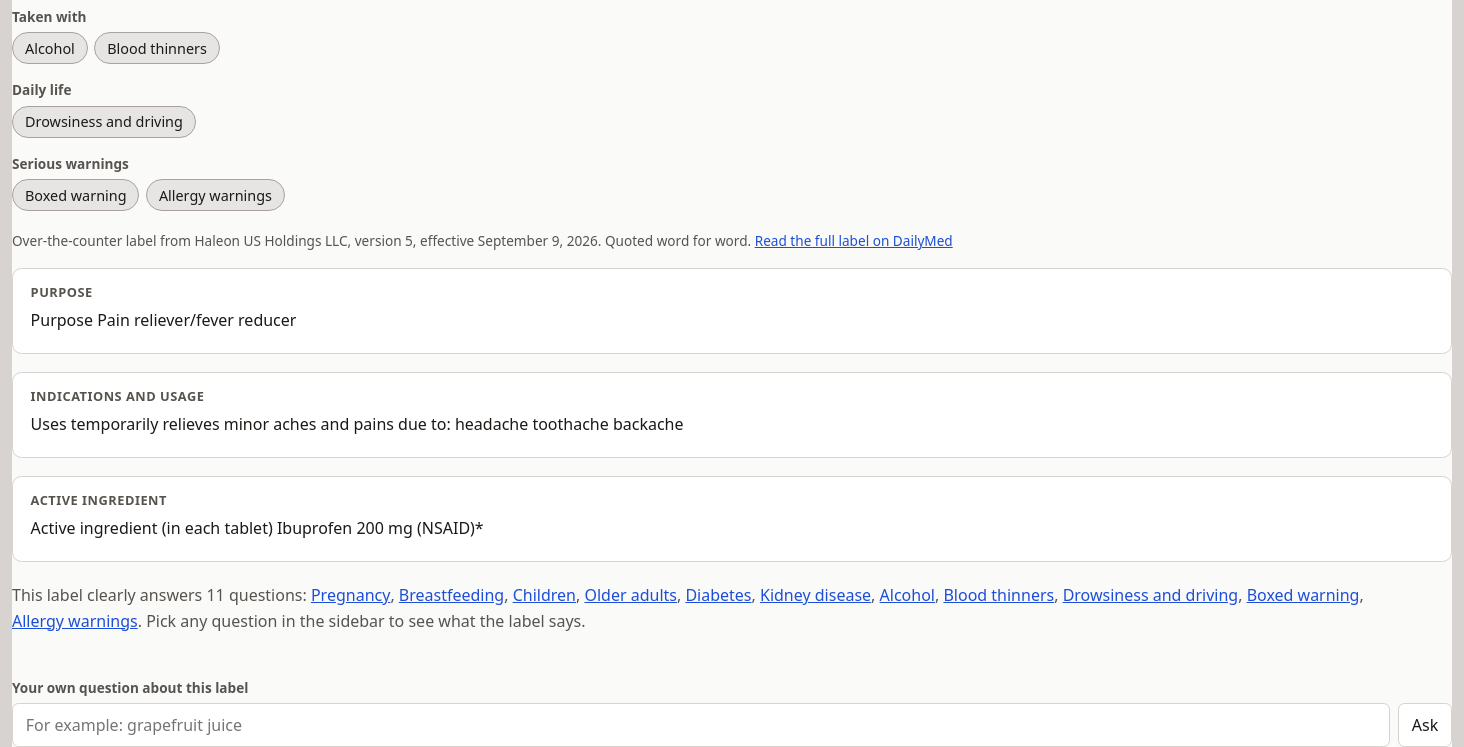
Test case: DrugAnswers › goes back to the overview from an answer
The width and height of the screenshot is (1464, 747).
(page scrolled)
Click the button "Pregnancy" at (351, 596), box [311,583,390,608]
(page scrolled)
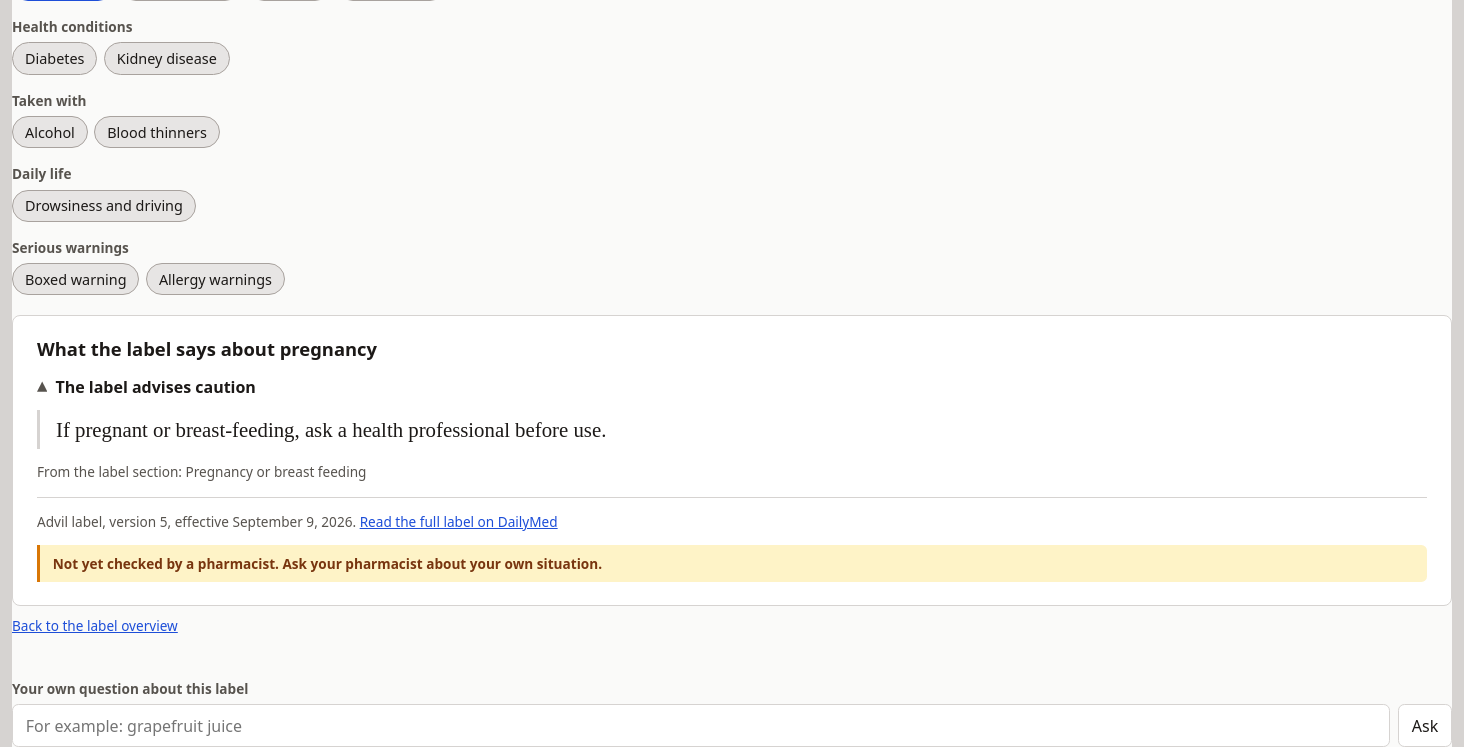
Click the button "Back to the label overview" at (95, 625), box [12,616,178,635]
(page scrolled)
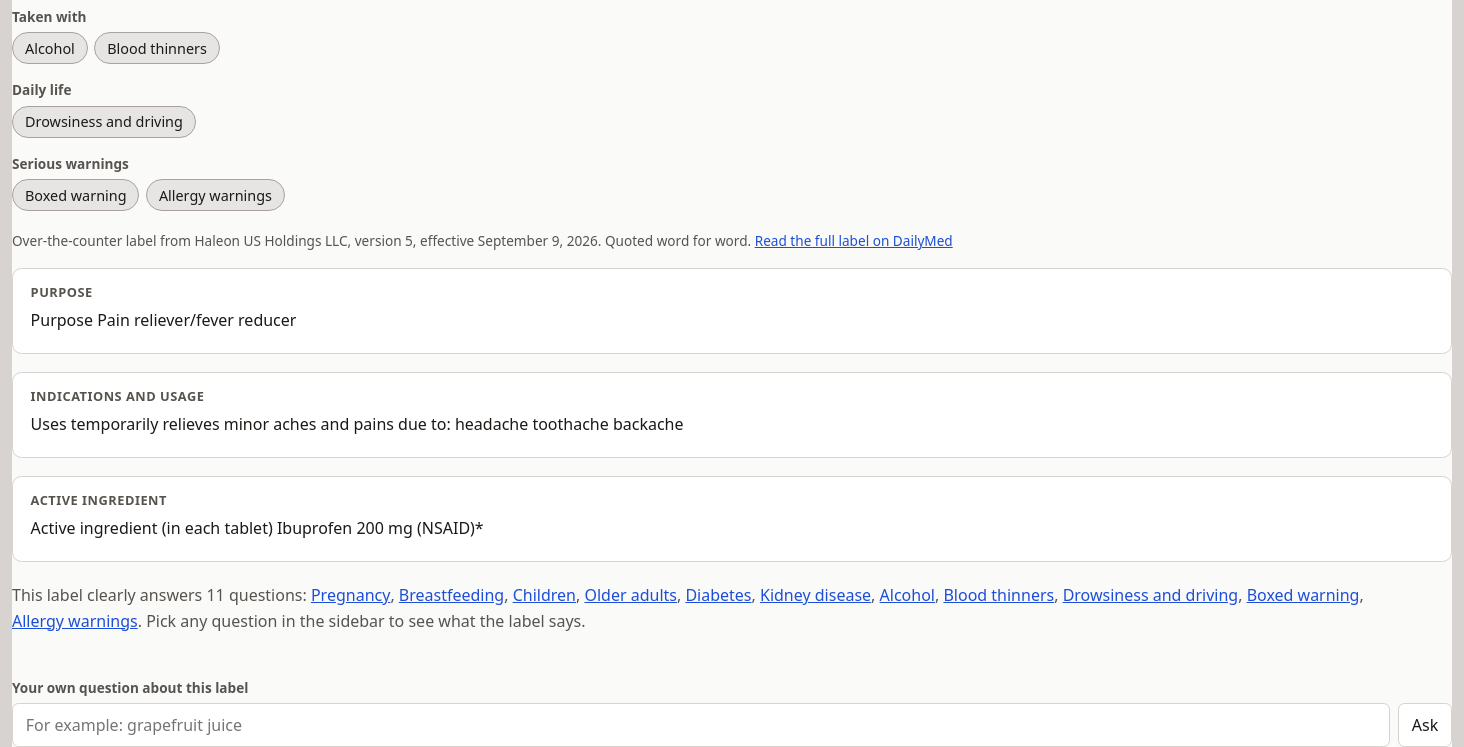
Expected: the element named "Clear answers" is shown, [12,580,1452,634]
